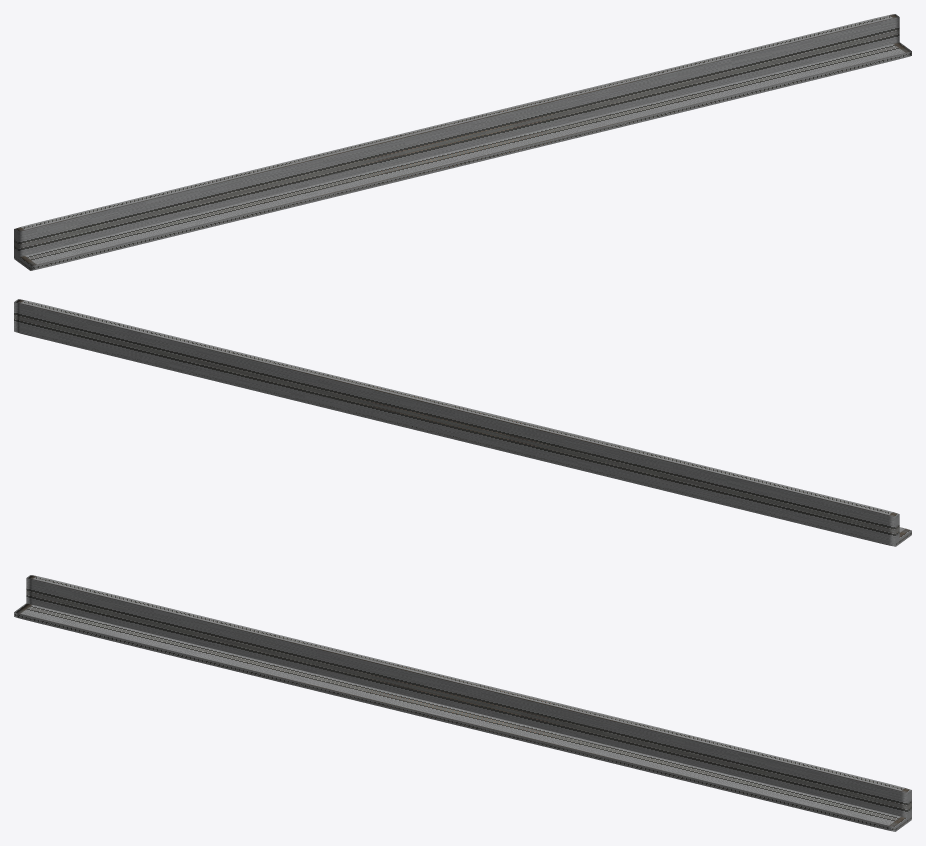
File: tee.glb
3 views of the same model, one above another, from view 1: azimuth 30°, elevation 25°; view 2: azimuth 150°, elevation 25°; view 3: azimuth 330°, elevation 25° (orthographic).
Parts seen in each view (by area): view 1: web, return; view 2: web, return; view 3: web, return.
Boxes of the visible parts, x1=… form: web: x1=14, y1=14, x2=899, y2=260; return: x1=14, y1=42, x2=911, y2=270; web: x1=14, y1=299, x2=899, y2=546; return: x1=14, y1=331, x2=911, y2=546; web: x1=26, y1=575, x2=911, y2=821; return: x1=14, y1=603, x2=911, y2=831.
Size of the model in its own units: 1.2 by 0.04 by 0.04.
1 material, 1 textured.
